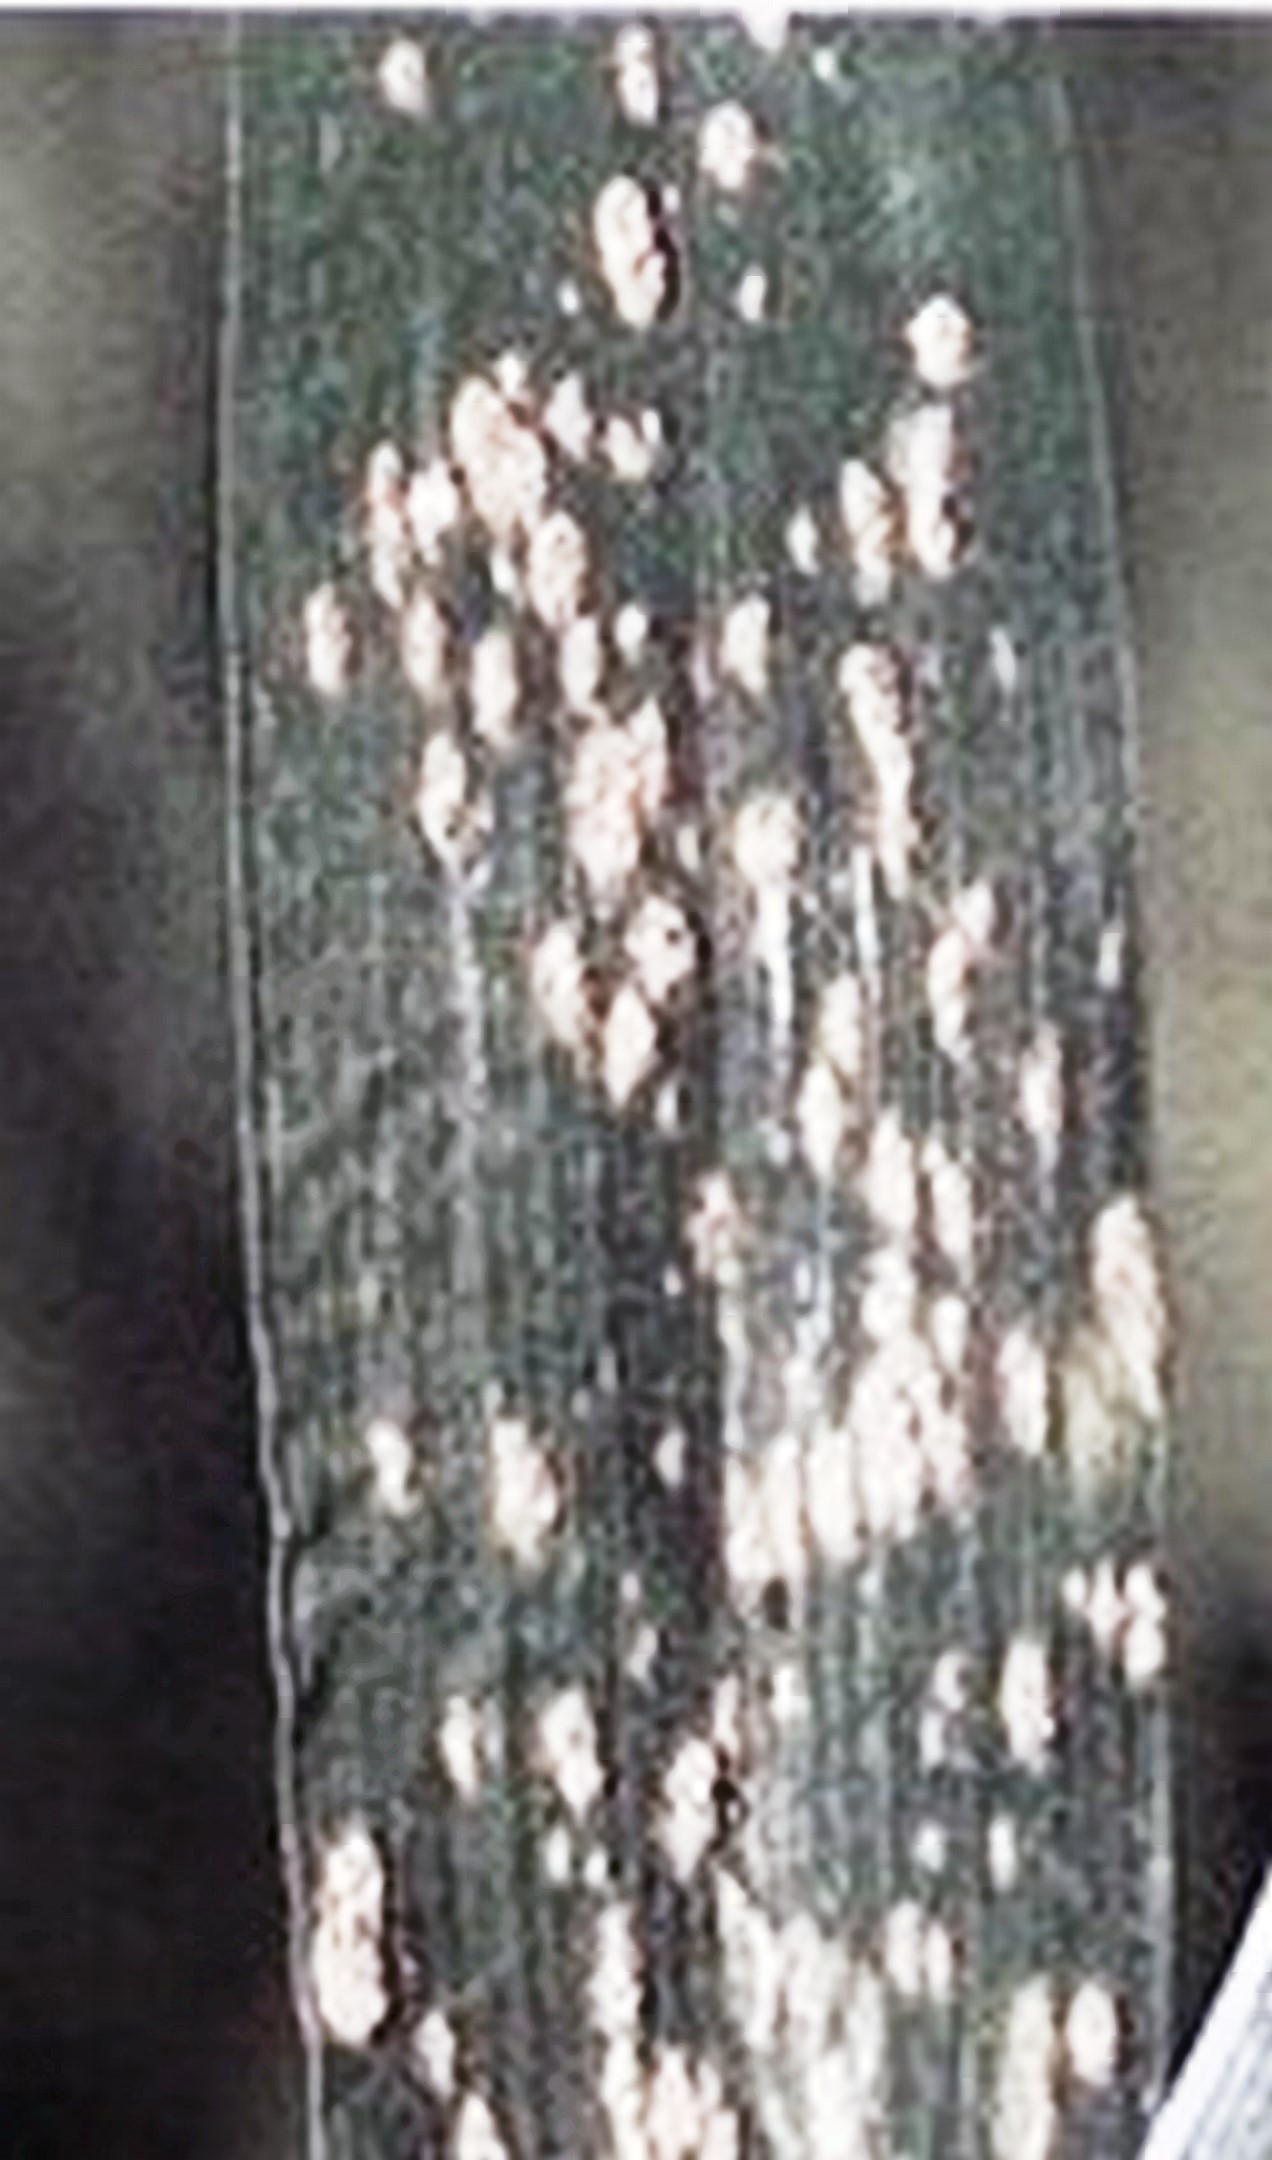Powdery Mildew: (257, 185, 1158, 1975)
